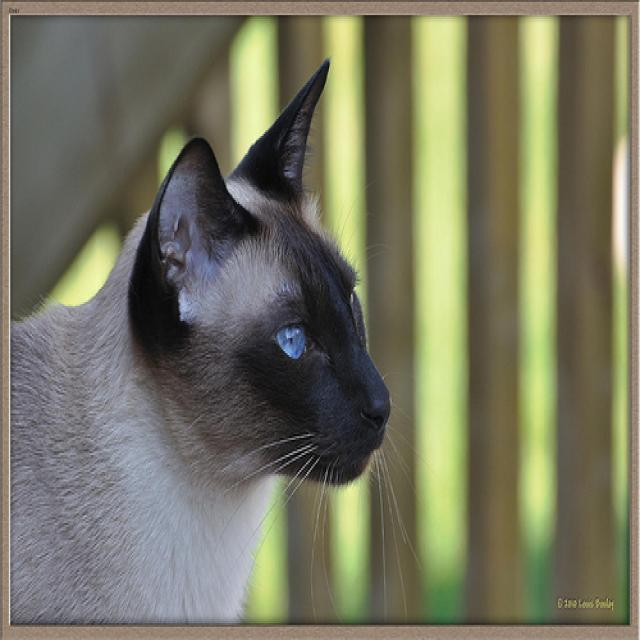Siamese: (128, 57, 395, 496)
